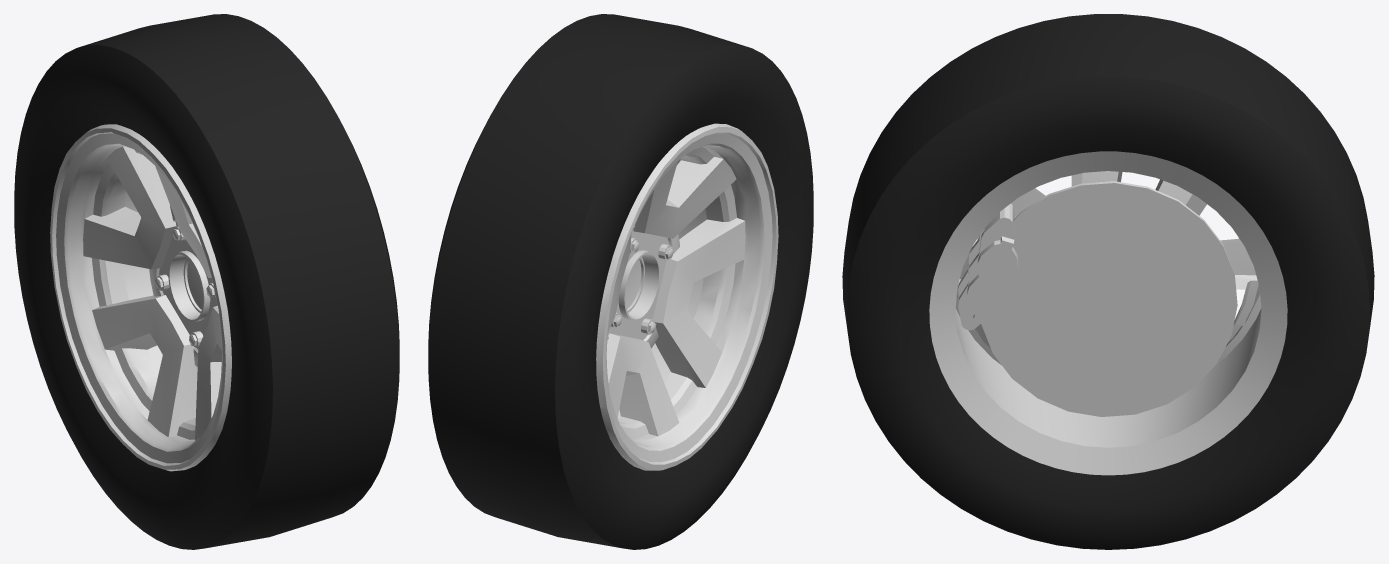
The model's file is cartypewheel1modelhigh.obj.
3 views of the same model, side by side, from view 1: azimuth 30°, elevation 25°; view 2: azimuth 150°, elevation 25°; view 3: azimuth 270°, elevation 25° (orthographic).
Visible parts, largest first — view 1: cartypewheel1modelhigh_Wheel; view 2: cartypewheel1modelhigh_Wheel; view 3: cartypewheel1modelhigh_Wheel.
Boxes of the visible parts, <box> form: cartypewheel1modelhigh_Wheel: <box>14,14,399,549</box>; cartypewheel1modelhigh_Wheel: <box>428,14,813,549</box>; cartypewheel1modelhigh_Wheel: <box>842,14,1374,549</box>.
Size of the model in its own units: 0.1822 by 0.561 by 0.562.
